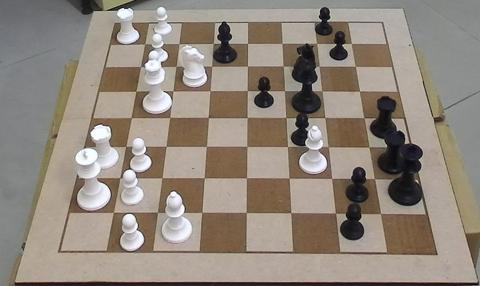xcorner: (348, 39, 358, 49), (313, 39, 323, 49), (278, 39, 288, 49), (243, 39, 253, 49), (352, 62, 362, 72), (315, 62, 325, 72), (279, 62, 289, 72), (356, 87, 366, 97), (318, 87, 328, 97), (243, 86, 253, 96), (205, 86, 215, 96), (130, 86, 140, 96), (361, 114, 371, 124), (243, 113, 253, 123), (366, 143, 376, 153), (325, 143, 335, 153), (243, 142, 253, 152), (202, 142, 212, 152), (161, 142, 171, 152), (243, 174, 253, 184), (200, 174, 210, 184), (115, 173, 125, 183), (378, 210, 388, 220), (288, 209, 298, 219), (243, 209, 253, 219), (153, 208, 163, 218), (109, 208, 119, 218), (208, 39, 218, 48), (173, 39, 183, 48), (139, 38, 148, 48), (243, 62, 253, 71), (171, 61, 180, 71), (135, 61, 144, 71), (168, 86, 177, 96), (282, 114, 292, 123), (204, 113, 213, 123), (165, 113, 174, 123), (284, 143, 294, 152), (372, 175, 381, 185), (329, 175, 338, 185), (198, 209, 208, 218), (207, 62, 216, 71), (281, 87, 290, 96), (322, 114, 331, 123), (126, 113, 135, 122), (121, 142, 130, 151), (286, 175, 295, 184), (158, 174, 167, 183), (333, 210, 342, 219)
